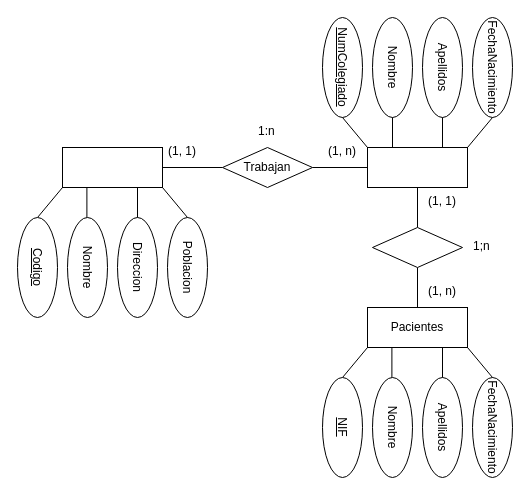
Some shapes in this 530 by 495 pixel diagram are drawn without their labels. Each missing label, with the box of its shape:
Ambulatorio: (62, 146, 162, 188)
MedicoCabecera: (366, 146, 468, 188)
Tienen: (372, 226, 462, 268)
